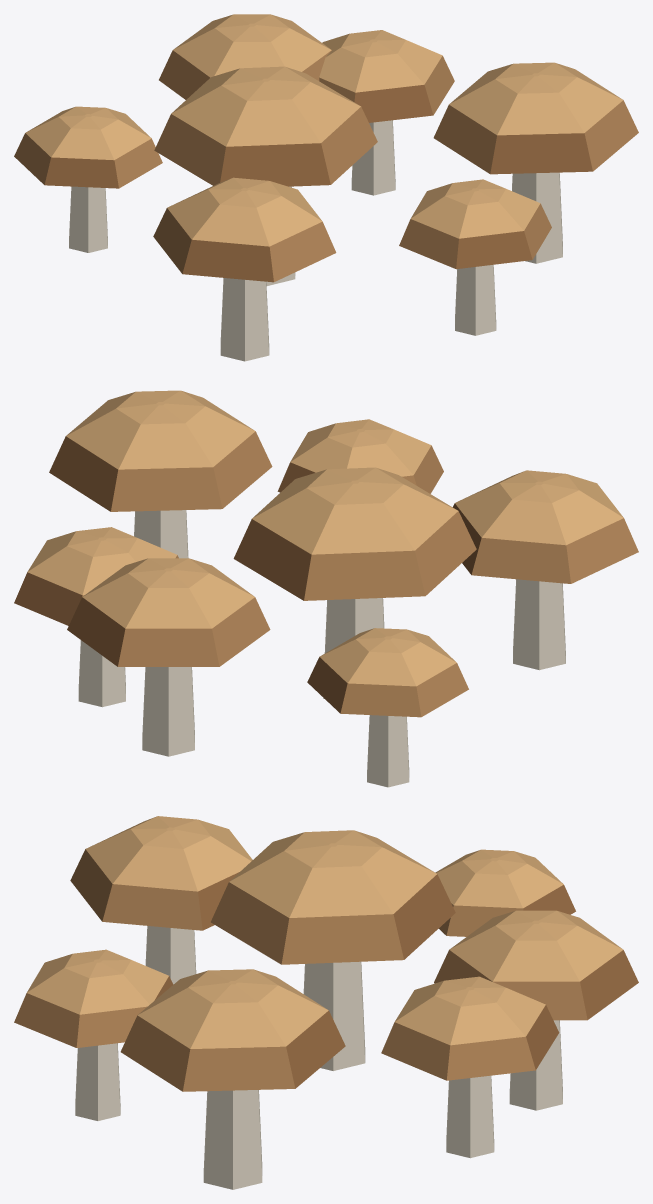
File: mushroom-4.glb
3 views of the same model, one above another, from view 1: azimuth 30°, elevation 25°; view 2: azimuth 150°, elevation 25°; view 3: azimuth 270°, elevation 25° (orthographic). The views are drawn at different scales.
Visible parts, largest first — view 1: mushroom-4; view 2: mushroom-4; view 3: mushroom-4.
Boxes of the visible parts, x1=… form: mushroom-4: x1=14, y1=14, x2=638, y2=361; mushroom-4: x1=14, y1=390, x2=638, y2=787; mushroom-4: x1=14, y1=816, x2=638, y2=1189.
Bounding box in the file's own units: 0.6761 × 0.2604 × 0.7004.
1 material, 1 textured.
